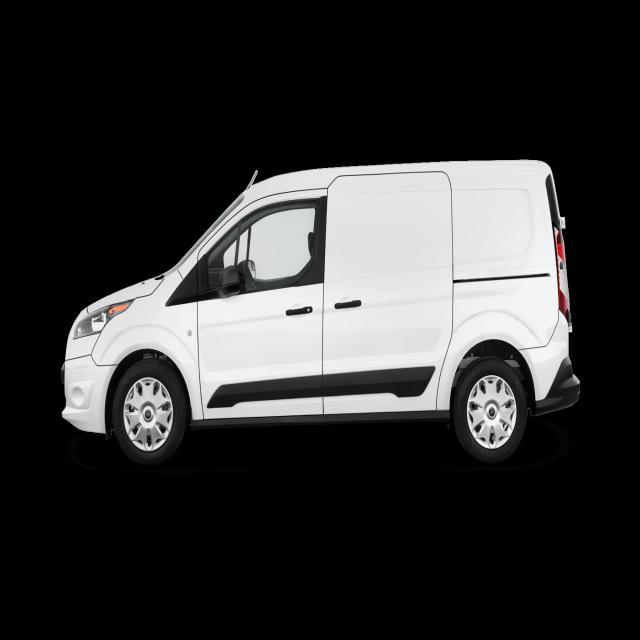truck: (59, 157, 580, 468)
